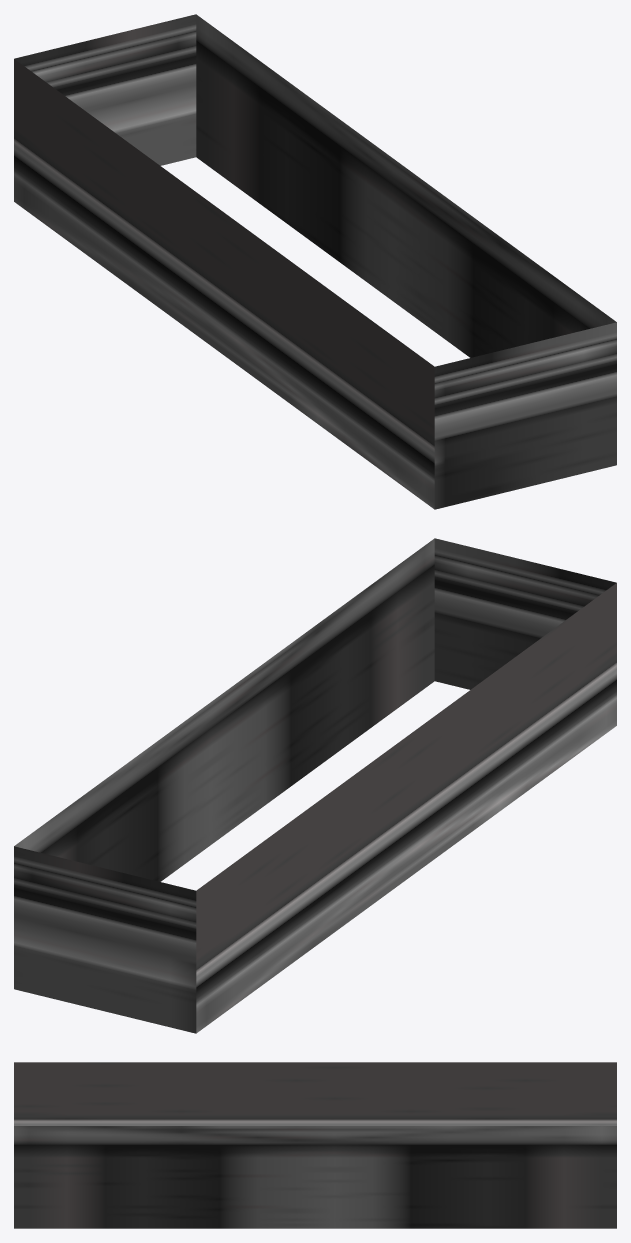
The model's file is GOYPIL02-1.fbx.
The picture shows the model from 3 angles, top to bottom: view 1: azimuth 30°, elevation 25°; view 2: azimuth 150°, elevation 25°; view 3: azimuth 270°, elevation 25°; orthographic projection. The views are drawn at different scales.
Parts seen in each view (by area): view 1: GOYPIL02; view 2: GOYPIL02; view 3: GOYPIL02.
Boxes of the visible parts, box(x1,y1,x2,y2) form: GOYPIL02: box(14, 14, 616, 509); GOYPIL02: box(14, 538, 616, 1033); GOYPIL02: box(14, 1062, 616, 1228).
Size of the model in its own units: 64 by 48 by 256.
1 material, 1 textured.
